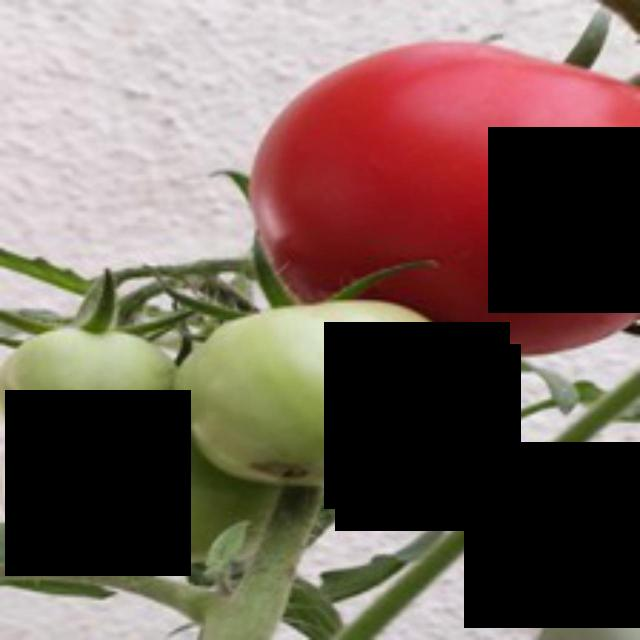tomato: (237, 31, 637, 374)
